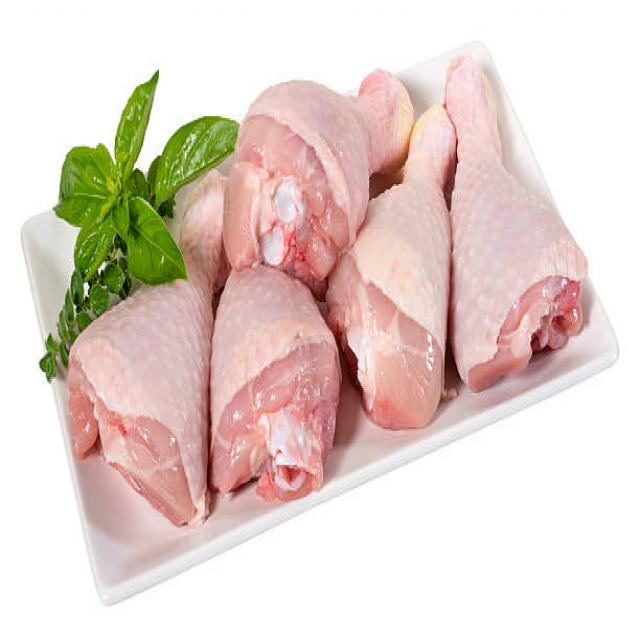Chicken: (449, 59, 589, 382), (72, 285, 208, 533), (366, 105, 452, 428), (212, 269, 331, 502), (228, 68, 406, 198)
